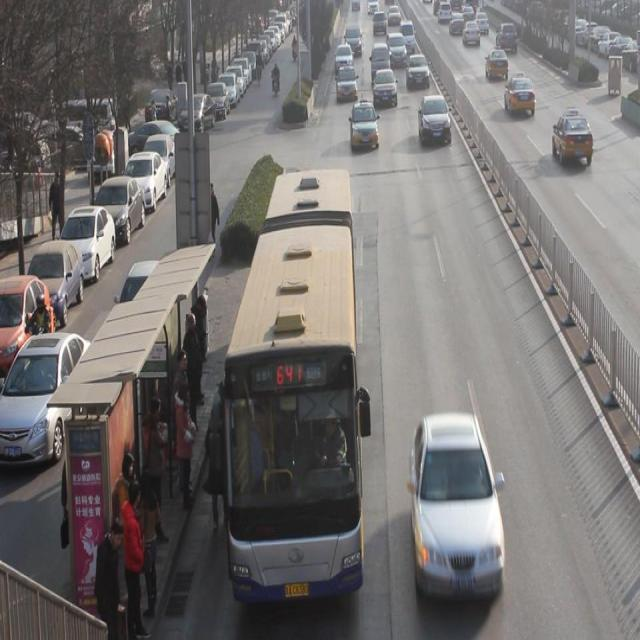car: (410, 412, 506, 600), (552, 108, 594, 166), (419, 95, 452, 146), (351, 98, 380, 149), (504, 72, 536, 116), (373, 68, 399, 107), (484, 46, 510, 80), (407, 53, 431, 89), (496, 20, 519, 52), (337, 65, 358, 100), (386, 33, 407, 65), (336, 44, 354, 70)
truck: (372, 42, 392, 81)
van: (225, 167, 363, 600)
